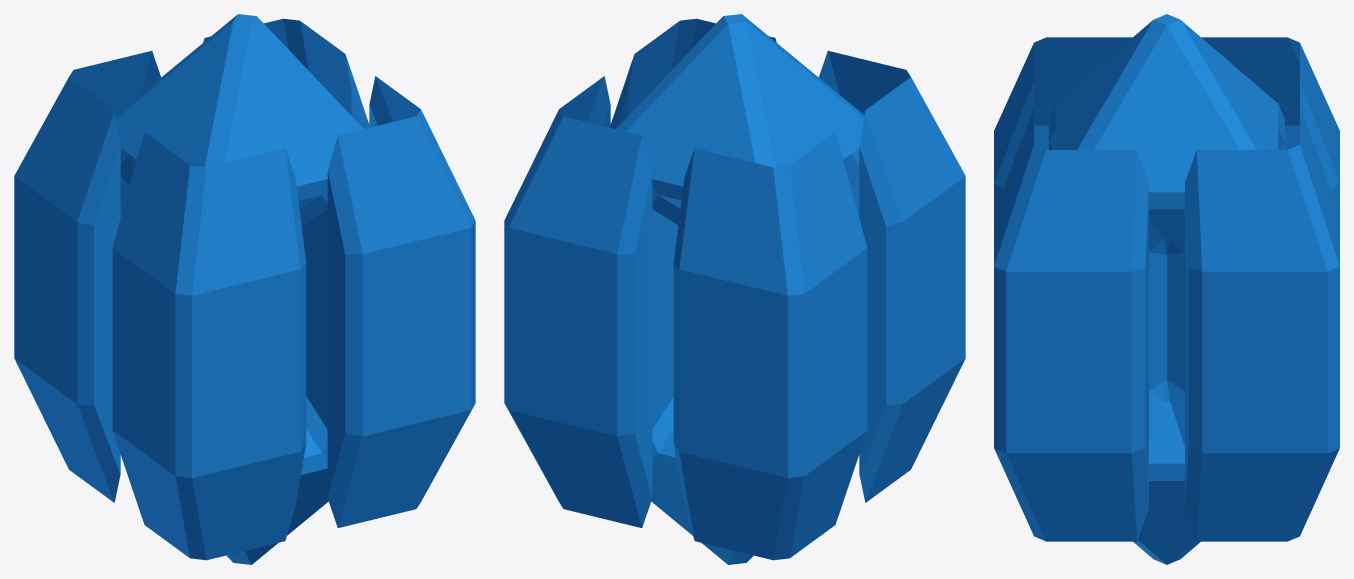
Rendered from bluepawn.fbx.
The picture shows the model from 3 angles, left to right: view 1: azimuth 30°, elevation 25°; view 2: azimuth 150°, elevation 25°; view 3: azimuth 270°, elevation 25°; orthographic projection.
Visible parts, largest first — view 1: Cube; view 2: Cube; view 3: Cube.
Part boxes in pixels (x1=…): Cube: x1=14, y1=14, x2=475, y2=564; Cube: x1=504, y1=14, x2=965, y2=564; Cube: x1=994, y1=14, x2=1339, y2=564.
Size of the model in its own units: 220 by 378 by 220.
